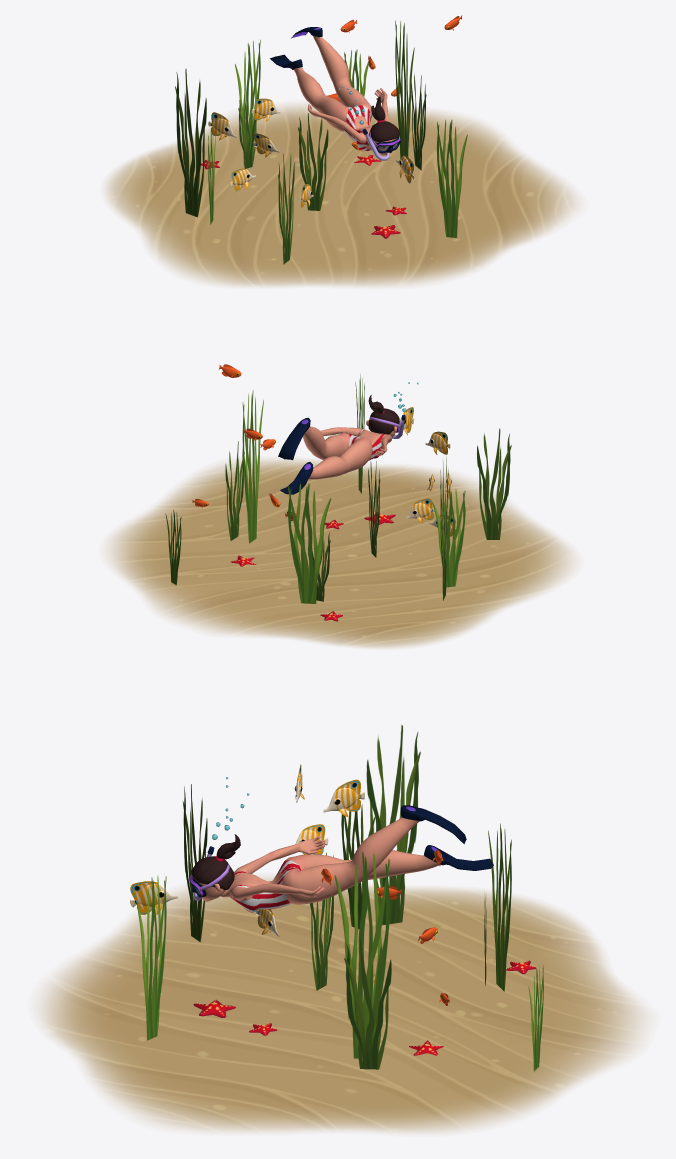
File: spearfisher.glb
3 renders of one model, top to bottom at view 1: azimuth 30°, elevation 25°; view 2: azimuth 150°, elevation 25°; view 3: azimuth 270°, elevation 25°, orthographic. The views are drawn at different scales.
Visible parts, largest first — view 1: ground, girl_atlas_mergedObject, plant2.004, plant.004, plant2.002, plant.001, plant.002, plant2.003, plant2.001, plant2, plant.003, plant (+1 smaller); view 2: ground, girl_atlas_mergedObject, plant.002, plant2.003, plant.001, plant.003, plant2.001, plant2.004, plant2.002, plant, plant2; view 3: ground, girl_atlas_mergedObject, plant.001, plant2.004, plant2.001, plant.004, plant.002, plant2.003, plant2.002, plant.003, fish.003, fish.005 (+1 smaller).
Boxes of the visible parts, bbox=[...] form: ground: bbox=[105, 103, 578, 286]; girl_atlas_mergedObject: bbox=[270, 27, 400, 160]; plant2.004: bbox=[175, 69, 206, 217]; plant.004: bbox=[436, 119, 467, 237]; plant2.002: bbox=[298, 113, 328, 210]; plant.001: bbox=[395, 20, 414, 158]; plant.002: bbox=[235, 39, 260, 164]; plant2.003: bbox=[278, 153, 294, 264]; plant2.001: bbox=[411, 74, 426, 170]; plant2: bbox=[238, 95, 256, 168]; plant.003: bbox=[208, 127, 215, 224]; plant: bbox=[344, 49, 368, 96]; ground: bbox=[107, 458, 574, 648]; girl_atlas_mergedObject: bbox=[278, 395, 405, 494]; plant.002: bbox=[288, 483, 330, 603]; plant2.003: bbox=[477, 428, 511, 539]; plant.001: bbox=[242, 390, 263, 543]; plant.003: bbox=[432, 489, 465, 587]; plant2.001: bbox=[225, 441, 244, 540]; plant2.004: bbox=[440, 456, 448, 600]; plant2.002: bbox=[368, 461, 380, 557]; plant: bbox=[165, 509, 181, 585]; plant2: bbox=[312, 532, 330, 601]; ground: bbox=[39, 876, 647, 1133]; girl_atlas_mergedObject: bbox=[189, 805, 493, 912]; plant.001: bbox=[334, 852, 389, 1058]; plant2.004: bbox=[366, 725, 420, 925]; plant2.001: bbox=[344, 938, 391, 1069]; plant.004: bbox=[136, 875, 166, 1040]; plant.002: bbox=[488, 823, 511, 991]; plant2.003: bbox=[183, 784, 207, 942]; plant2.002: bbox=[310, 852, 333, 990]; plant.003: bbox=[341, 804, 375, 929]; fish.003: bbox=[130, 881, 177, 915]; fish.005: bbox=[323, 779, 364, 817].
Bounding box in the file's own units: 26.71 × 9.95 × 26.71.
Materials: 10 (7 with a texture image).
